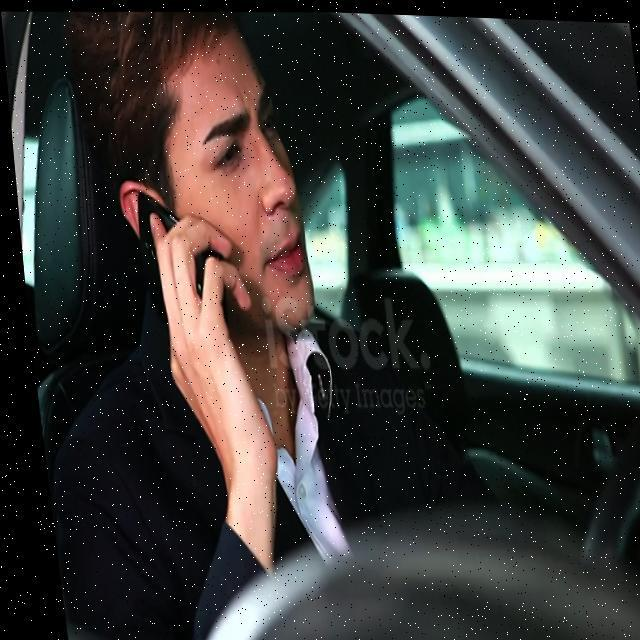PhoneCall: (128, 190, 224, 326)
